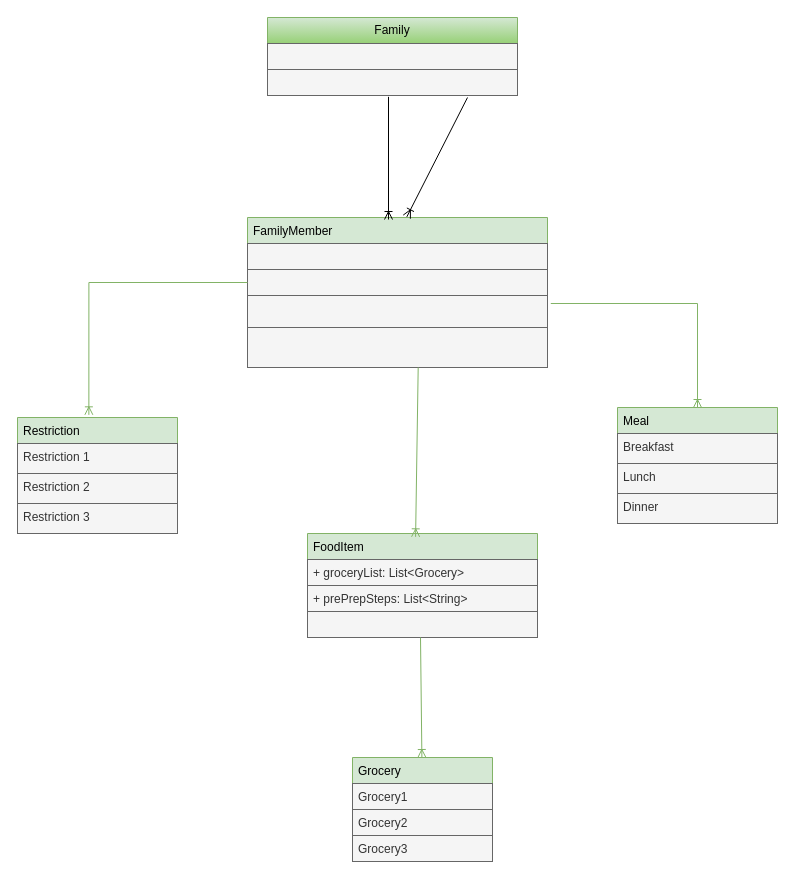
Some shapes in this 795 by 882 pixel diagram are drawn without their labels. Here are the shapes that lost their labels. From the top down, the centre of each, then its label:
At (392,56): "+ familyName: String".
At (392,82): "+ familyMembers: List<FamilyMember>".
At (397,256): "+ name: String".
At (397,282): "+ age: Int".
At (397,311): "+ mealPrefernces: Map<Meal, List<FoodItem>>".
At (397,347): "+ restrictions: List<Restriction>".
At (422,624): "+ Notes: String".
